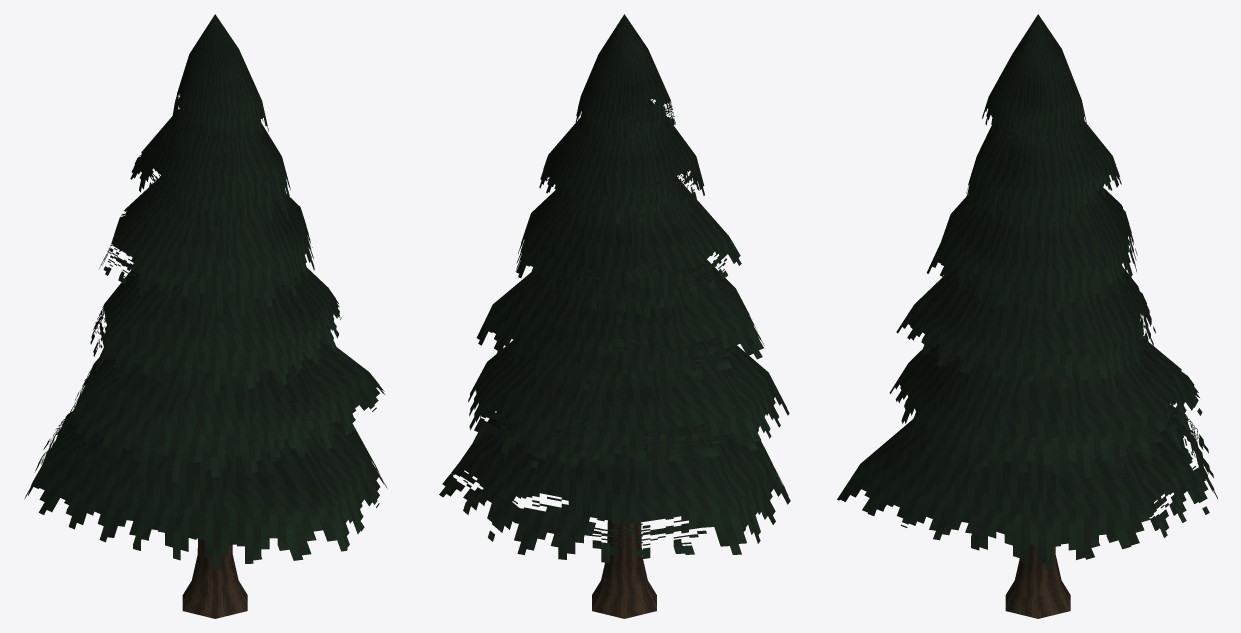
The model's file is pine_tree.glb.
3 views of the same model, side by side, from view 1: azimuth 30°, elevation 25°; view 2: azimuth 150°, elevation 25°; view 3: azimuth 270°, elevation 25° (orthographic).
Parts seen in each view (by area): view 1: needles, trunk-col; view 2: needles, trunk-col; view 3: needles, trunk-col.
Part boxes in pixels (left/top/right/bottom): needles: left=24, top=14, right=387, bottom=569; trunk-col: left=182, top=538, right=247, bottom=618; needles: left=439, top=14, right=790, bottom=562; trunk-col: left=592, top=520, right=656, bottom=618; needles: left=837, top=14, right=1217, bottom=568; trunk-col: left=1005, top=544, right=1070, bottom=618.
Size of what is drawn, in the model's own units: 5.01 by 8.65 by 5.32.
Materials: 2 (2 with a texture image).
